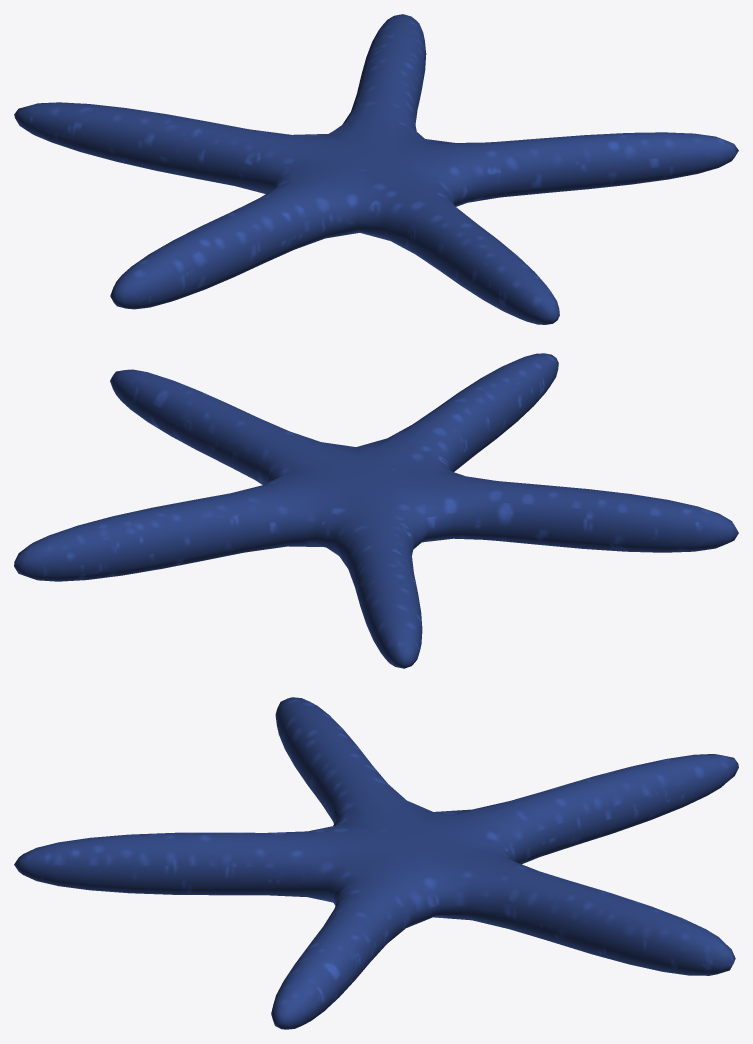
Rendered from Pacific blue sea star.glb.
3 renders of one model, top to bottom at view 1: azimuth 30°, elevation 25°; view 2: azimuth 150°, elevation 25°; view 3: azimuth 270°, elevation 25°, orthographic. The views are drawn at different scales.
Parts seen in each view (by area): view 1: Cylinder; view 2: Cylinder; view 3: Cylinder.
Boxes of the visible parts, box(x1,y1,x2,y2) form: Cylinder: box(14, 14, 738, 324); Cylinder: box(14, 353, 738, 668); Cylinder: box(14, 697, 738, 1029).
Size of the model in its own units: 0.3381 by 0.0283 by 0.3245.
1 material, 1 textured.
